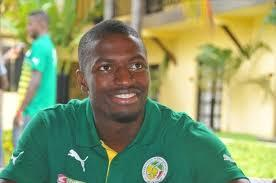No Mask: (77, 29, 154, 124)
